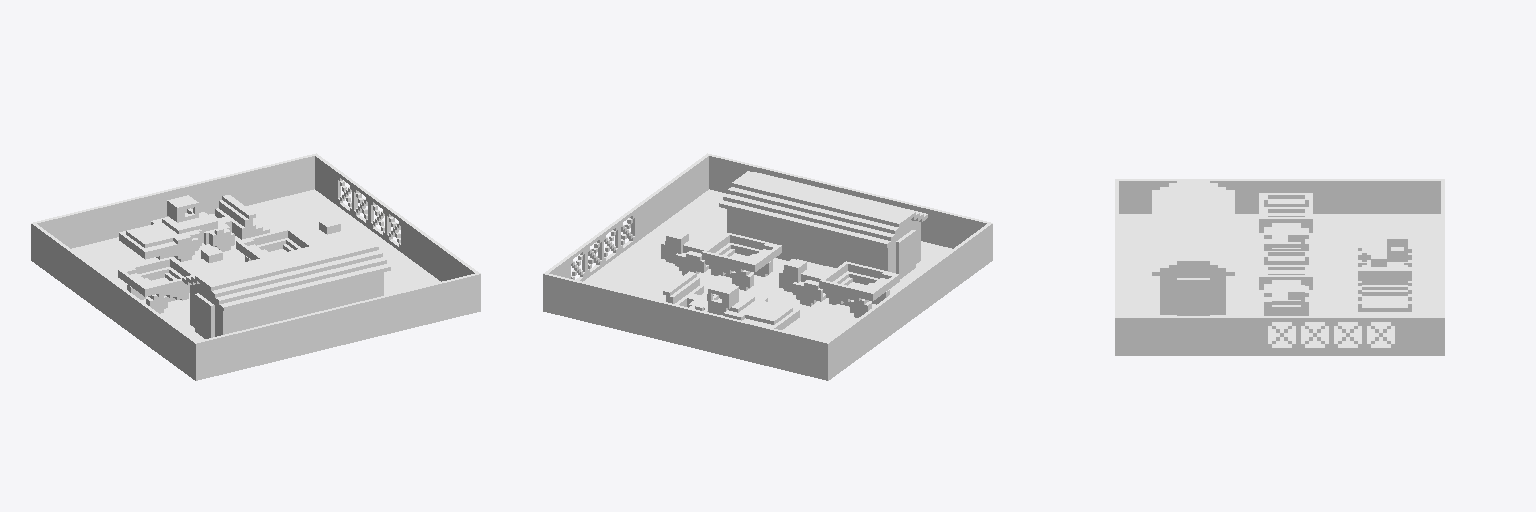
Rendered from StoneQuarry.obj.
3 views of the same model, side by side, from view 1: azimuth 30°, elevation 25°; view 2: azimuth 150°, elevation 25°; view 3: azimuth 270°, elevation 25° (orthographic).
Parts seen in each view (by area): view 1: object 1; view 2: object 1; view 3: object 1.
Part boxes in pixels (bbox=[...]): object 1: bbox=[31, 153, 480, 380]; object 1: bbox=[543, 153, 992, 380]; object 1: bbox=[1115, 179, 1444, 355].
Bounding box in the file's own units: 8 × 1.6 × 8.